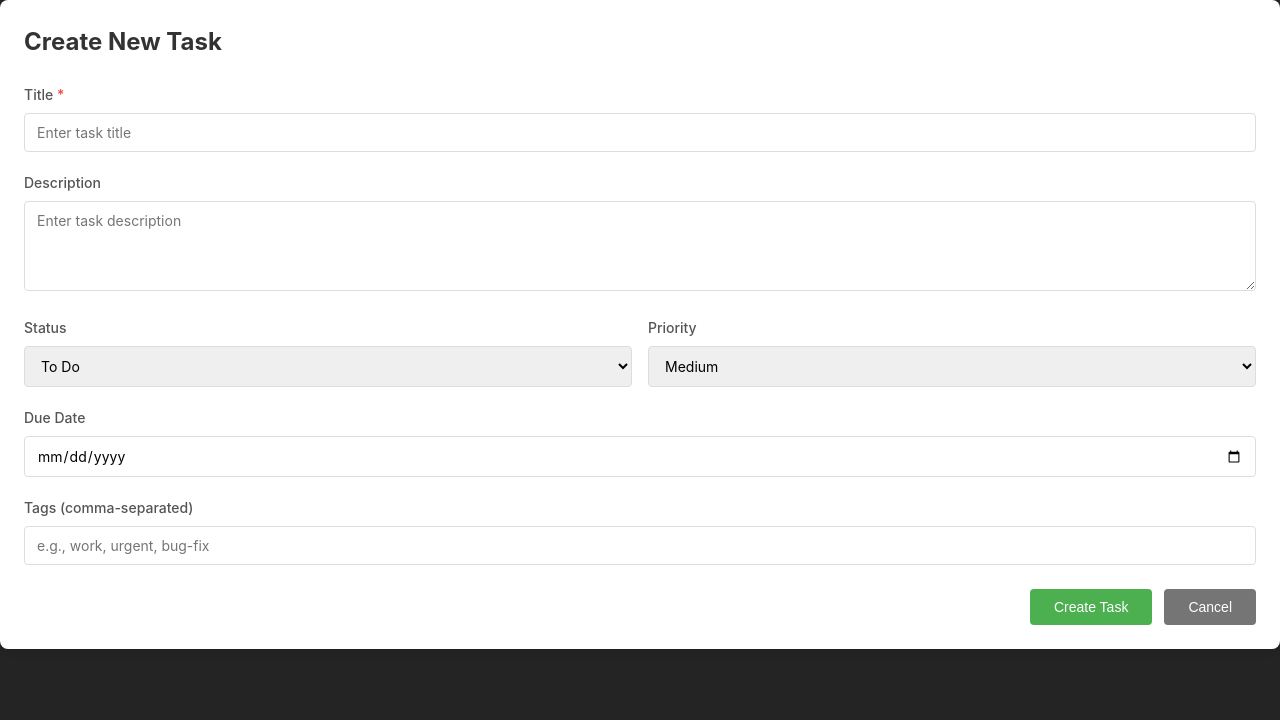
Scenario: TaskForm Component › Form Validation › should show error when title is too short
Type "AB" into the field labelled "Title *". click: (640, 132)
box: [24,113,1256,152]
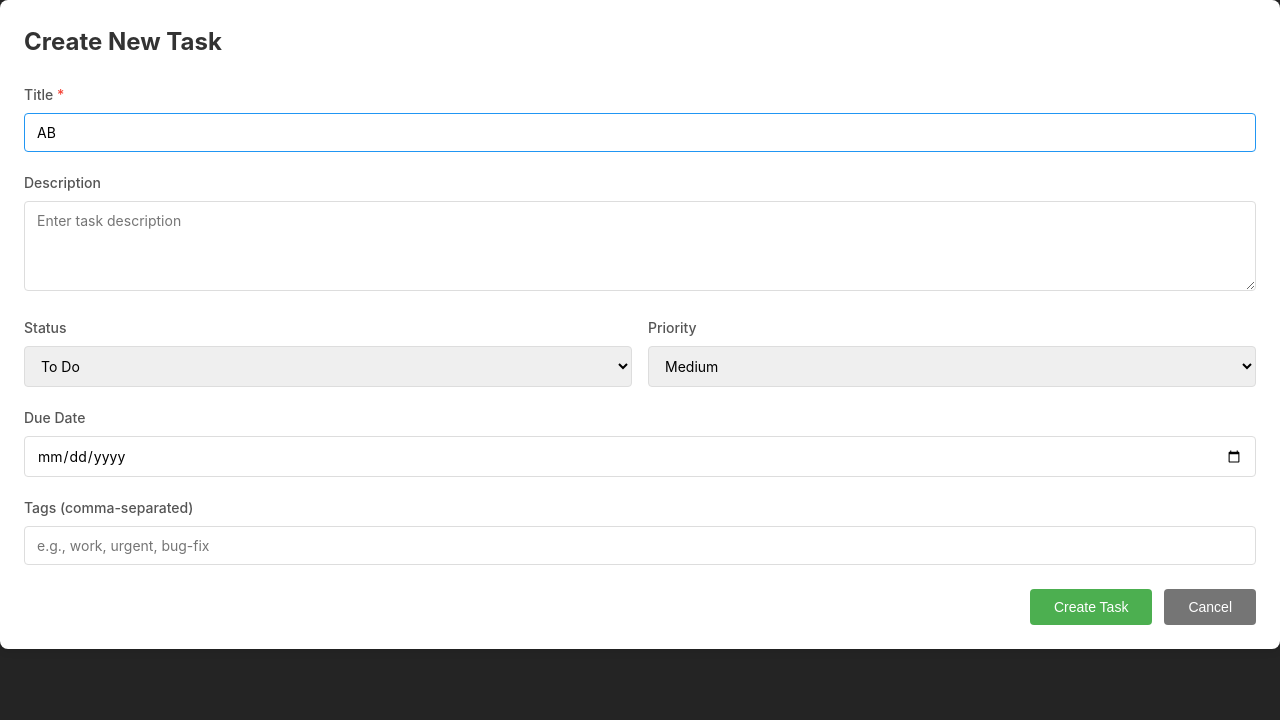
Click the button "Create Task". click: (1091, 607)
box: [1030,589,1152,625]
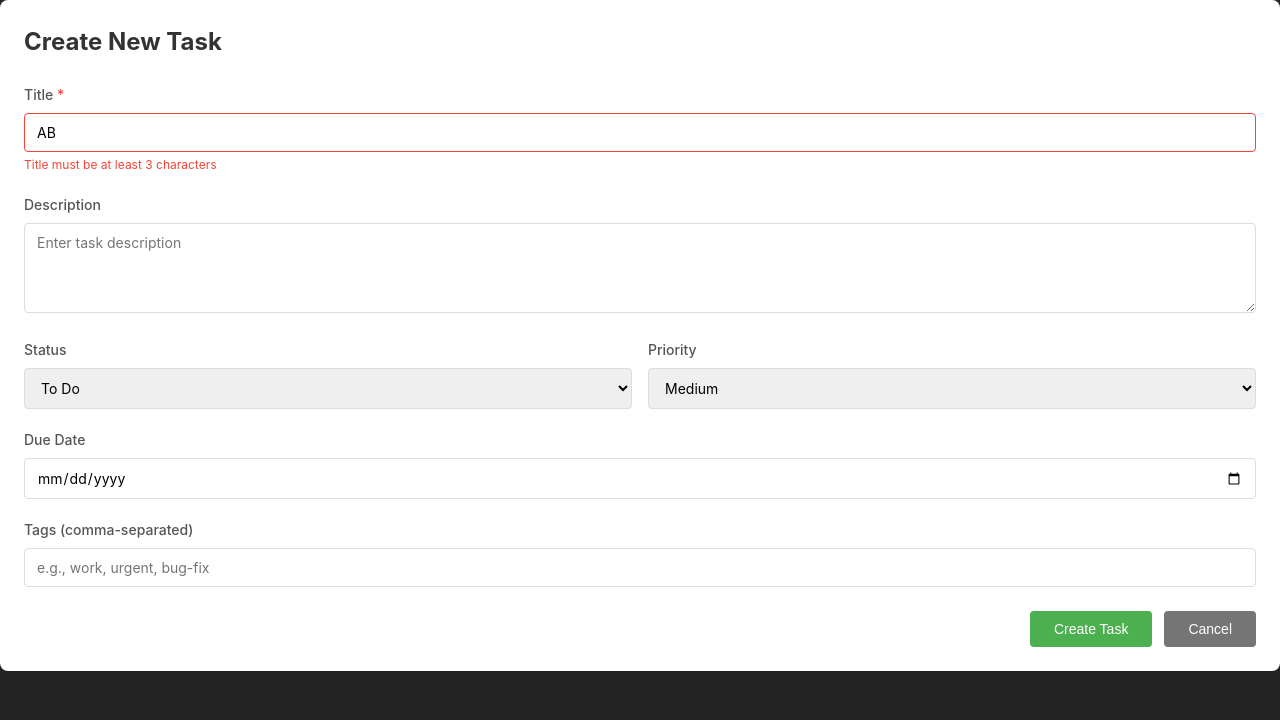
Now the text "Title must be at least 3 characters" is shown, box [24,157,216,172]
